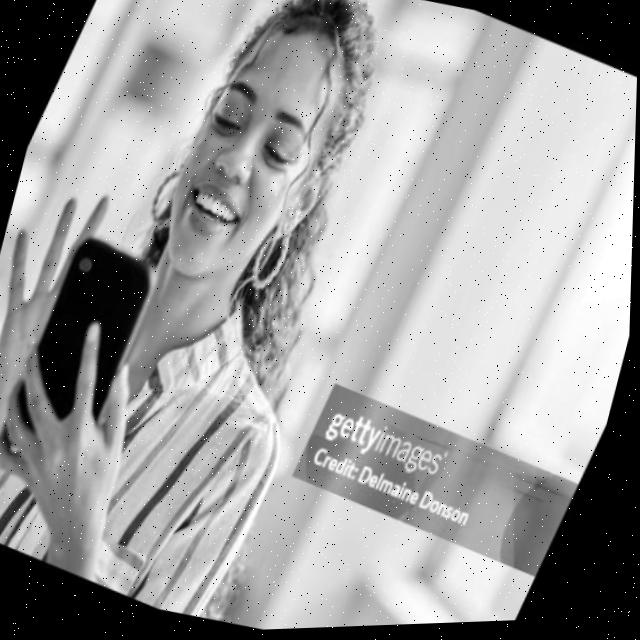phone: (0, 219, 177, 490)
